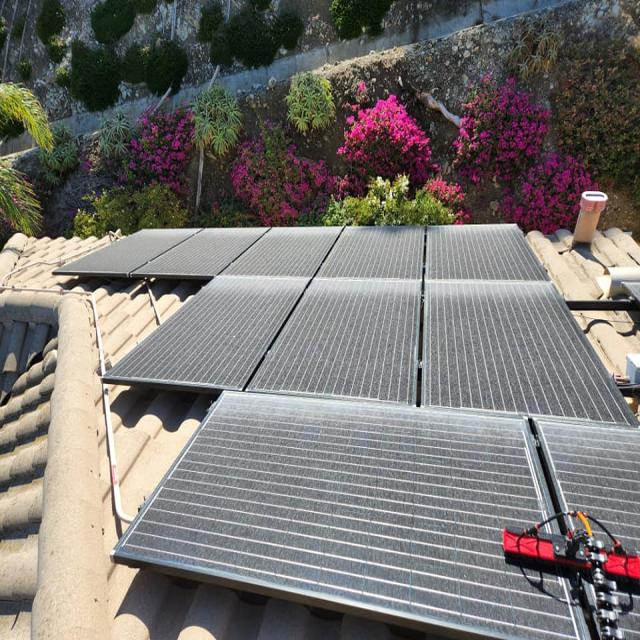dust-solar-panel: (54, 218, 640, 639)
